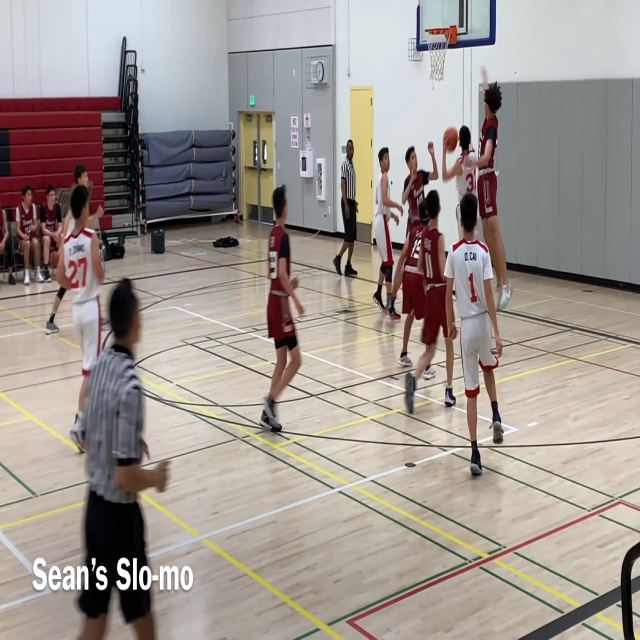Basketball: (443, 127, 458, 151)
